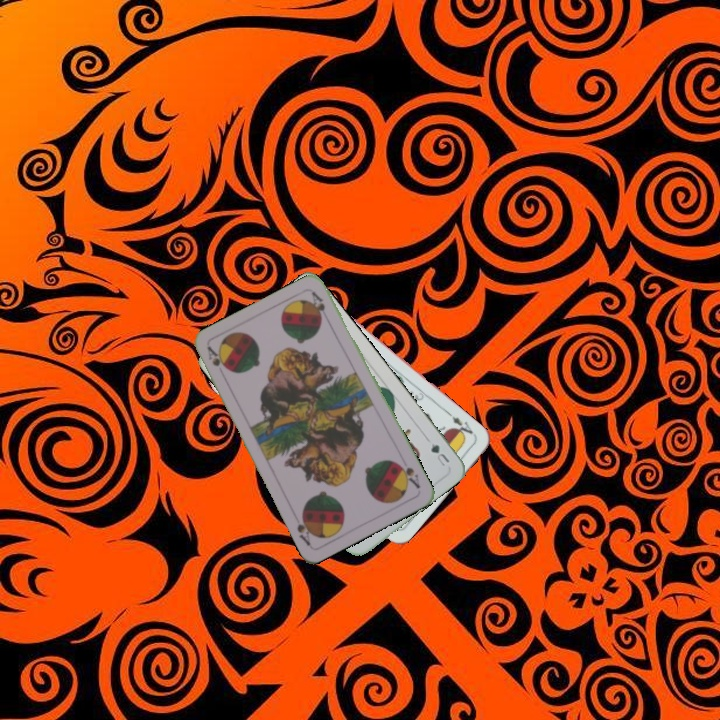EA: (444, 408, 478, 441)
GU: (427, 439, 452, 470)
SA: (393, 458, 423, 491), (203, 342, 230, 373)
